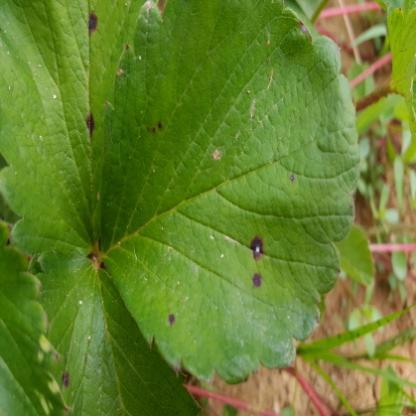Strawberry_Leaf_Spot: (99, 0, 362, 386), (0, 0, 140, 275), (30, 249, 203, 415)
